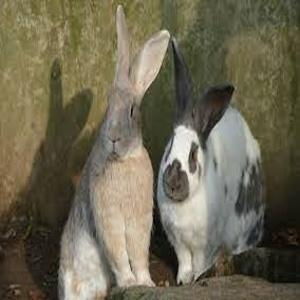rabbit: (56, 6, 172, 300), (146, 67, 267, 286)
